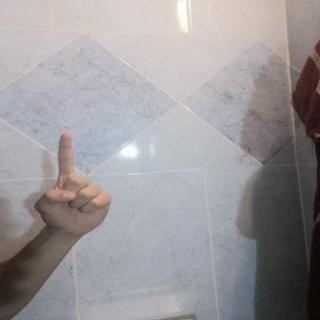BAA: (24, 124, 122, 244)
